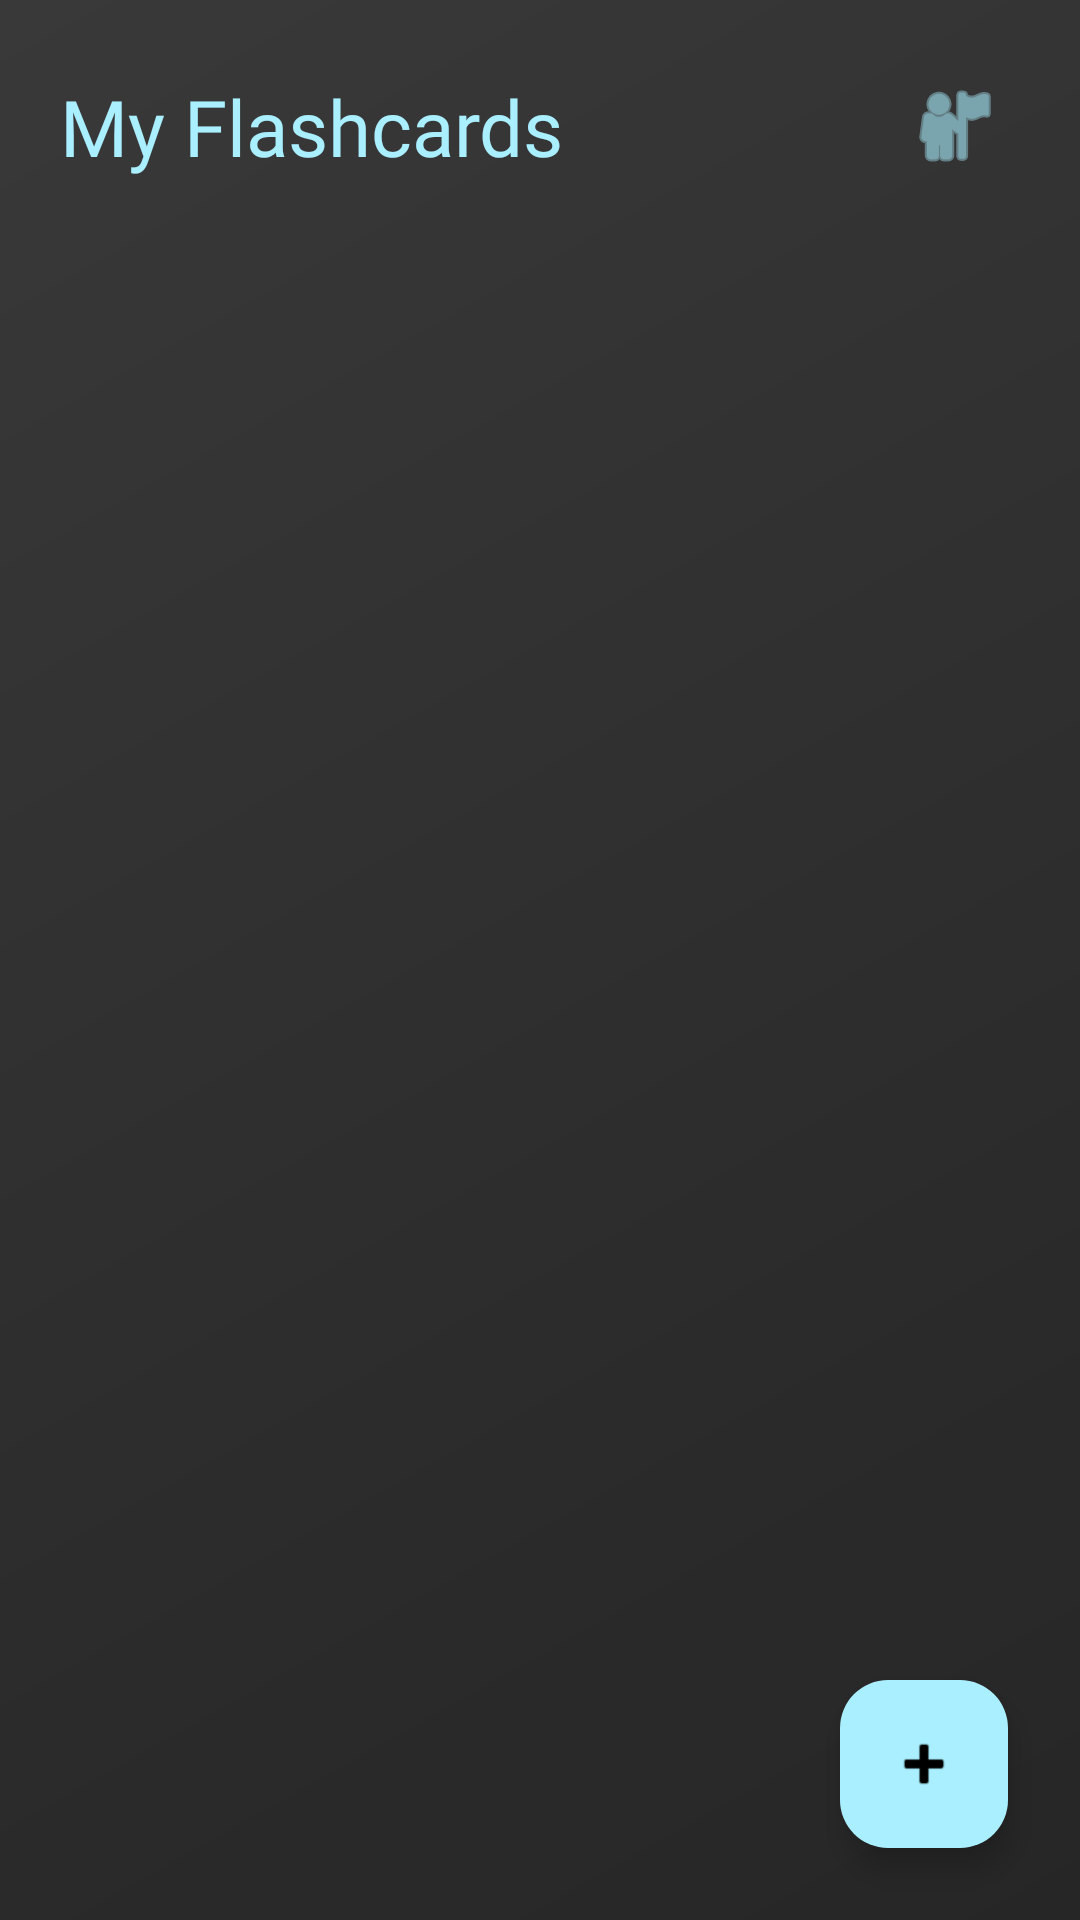

Screen size 1080*1920. Icon name, then its box in pixels as (left=x1, top=y1, right=x2, bottom=y2):
Add New Set: (left=840, top=1680, right=1008, bottom=1848)
Profile: (left=919, top=90, right=991, bottom=162)
